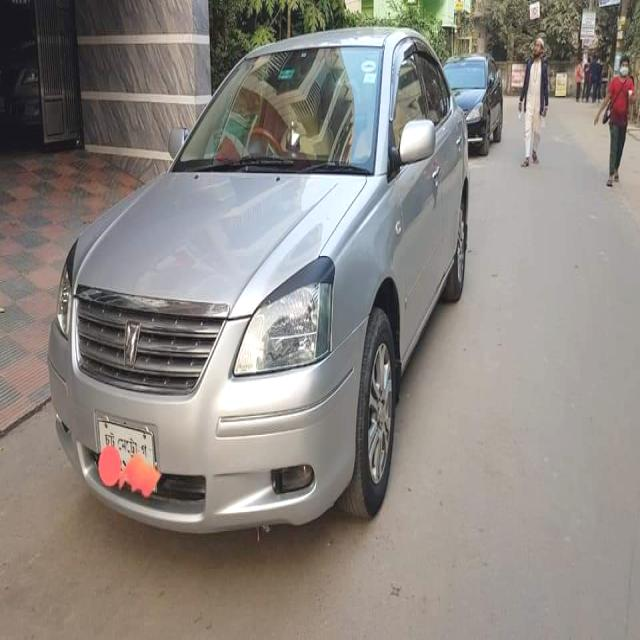black: (446, 41, 512, 155)
silver: (45, 4, 467, 561)
